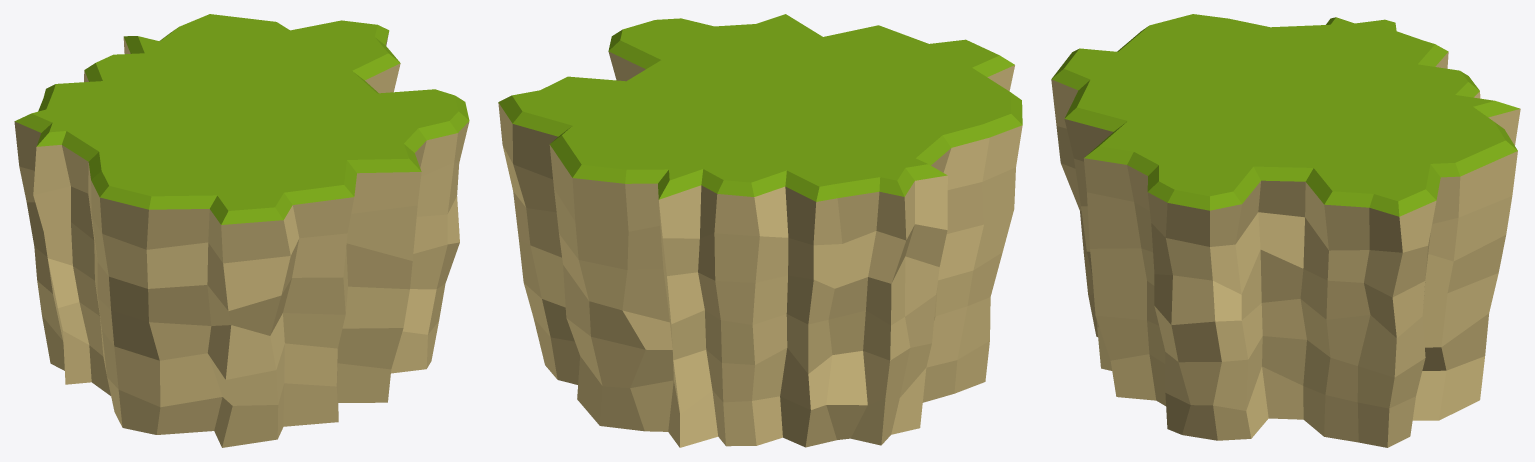
The model's file is SimpleCliff.fbx.
3 renders of one model, left to right at view 1: azimuth 30°, elevation 25°; view 2: azimuth 150°, elevation 25°; view 3: azimuth 270°, elevation 25°, orthographic. The views are drawn at different scales.
Parts seen in each view (by area): view 1: Plane; view 2: Plane; view 3: Plane.
Boxes of the visible parts, bbox=[...] form: Plane: bbox=[14, 14, 469, 447]; Plane: bbox=[498, 14, 1022, 447]; Plane: bbox=[1051, 14, 1520, 447].
Size of the model in its own units: 202 by 125 by 202.
